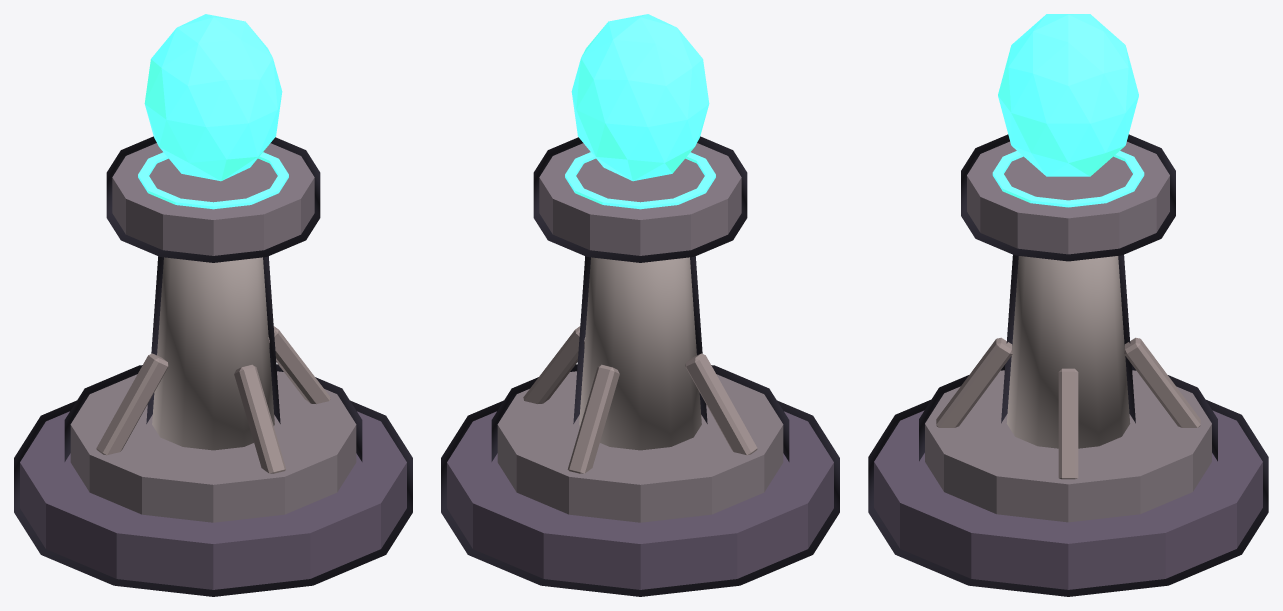
The model's file is shrine.glb.
The picture shows the model from 3 angles, left to right: view 1: azimuth 30°, elevation 25°; view 2: azimuth 150°, elevation 25°; view 3: azimuth 270°, elevation 25°; orthographic projection.
Parts seen in each view (by area): view 1: campaign_shrine, shrine_focus; view 2: campaign_shrine, shrine_focus; view 3: campaign_shrine, shrine_focus.
Part boxes in pixels (x1,y1,x2,y2): campaign_shrine: [14, 136, 412, 596]; shrine_focus: [144, 14, 282, 181]; campaign_shrine: [441, 136, 839, 596]; shrine_focus: [571, 14, 709, 181]; campaign_shrine: [868, 134, 1268, 596]; shrine_focus: [998, 14, 1138, 176].
Size of the model in its own units: 1.81 by 2.49 by 1.81.
